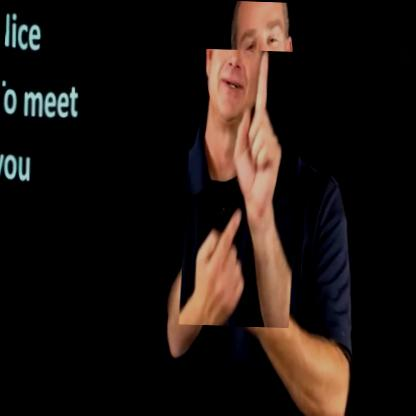NiceToMeetYou: (180, 48, 305, 328)
